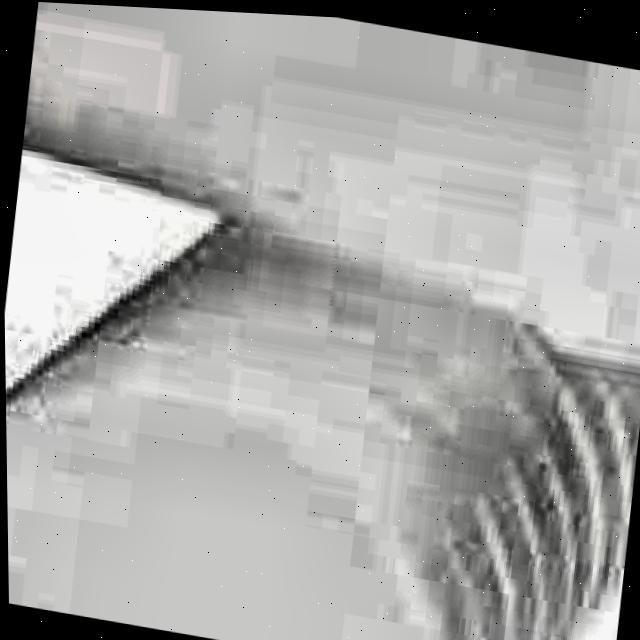paper: (2, 165, 640, 640), (7, 0, 640, 347)
